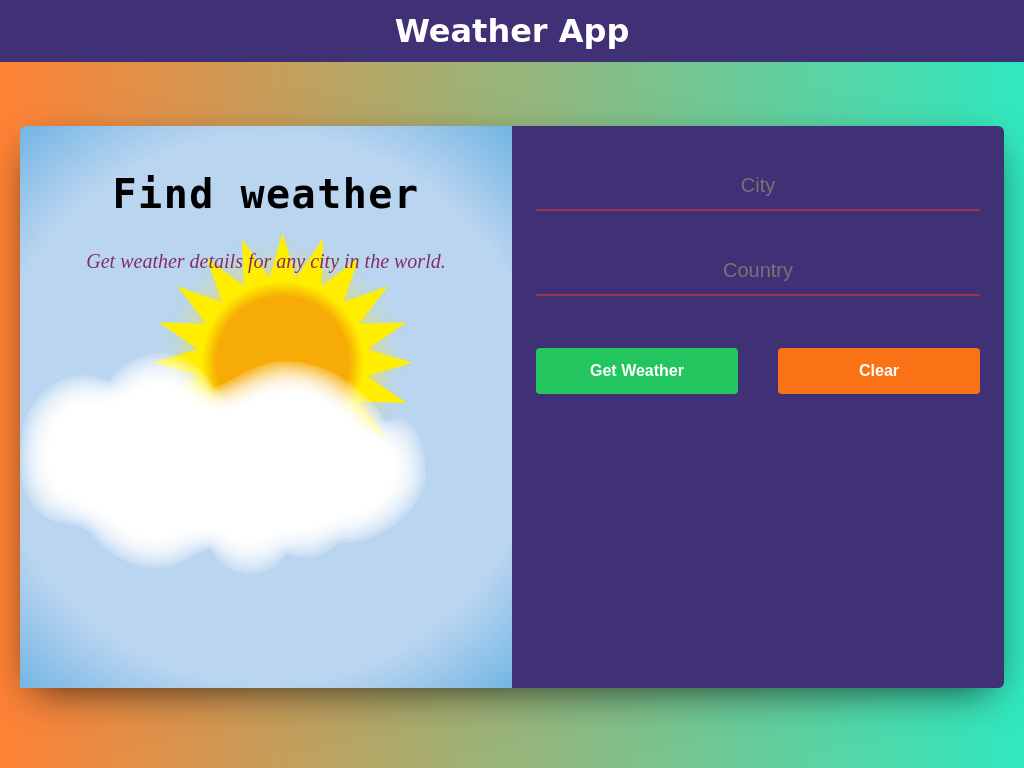
App integration tests › displays weather data after submitting the form
Type "London" into the field labelled "City". click: (758, 186)
box: [536,162,980,211]
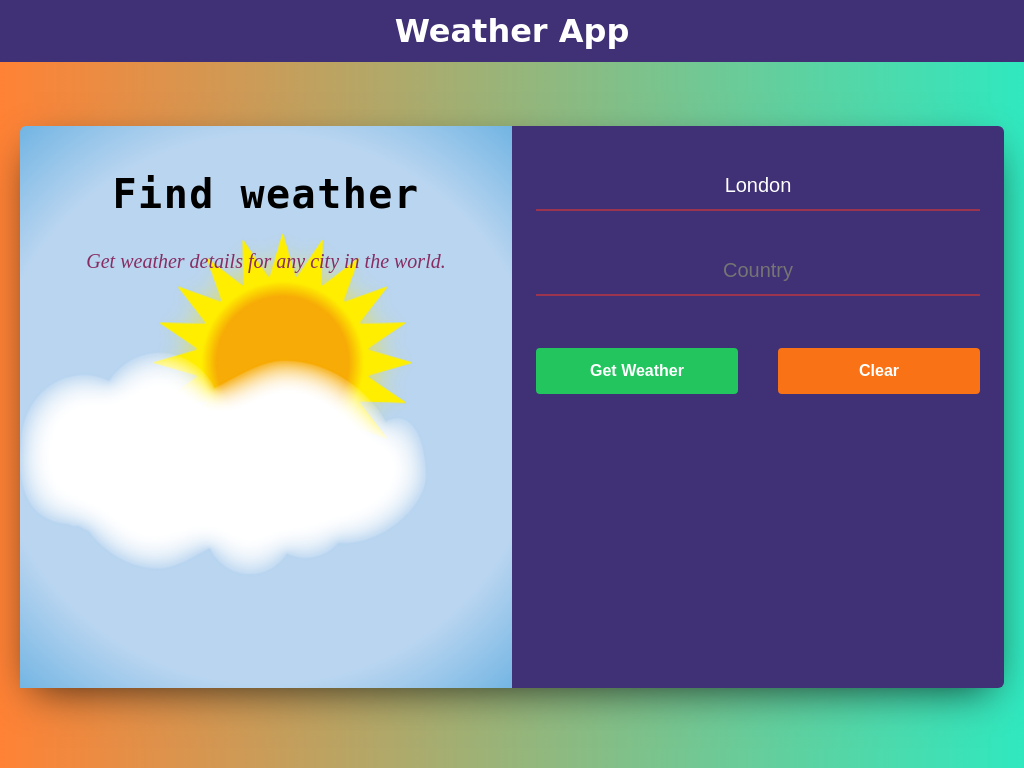
Type "UK" into the field labelled "Country". click: (758, 272)
box: [536,247,980,296]
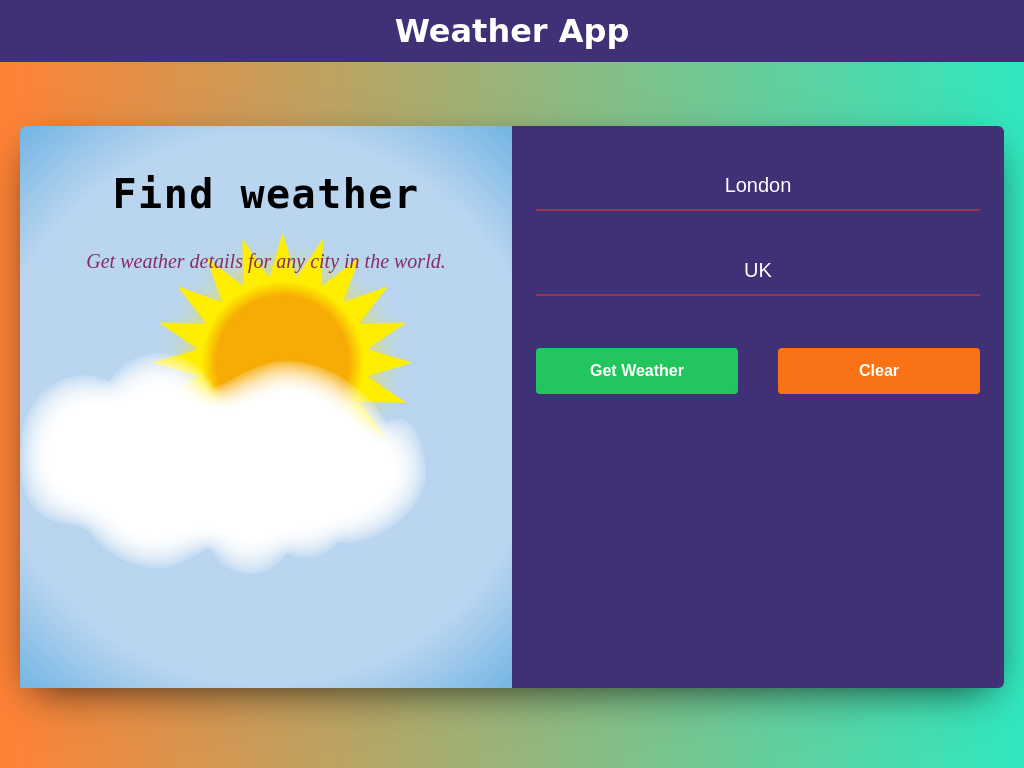
Click the button "Get Weather". click: (637, 371)
box: [536,348,738,394]
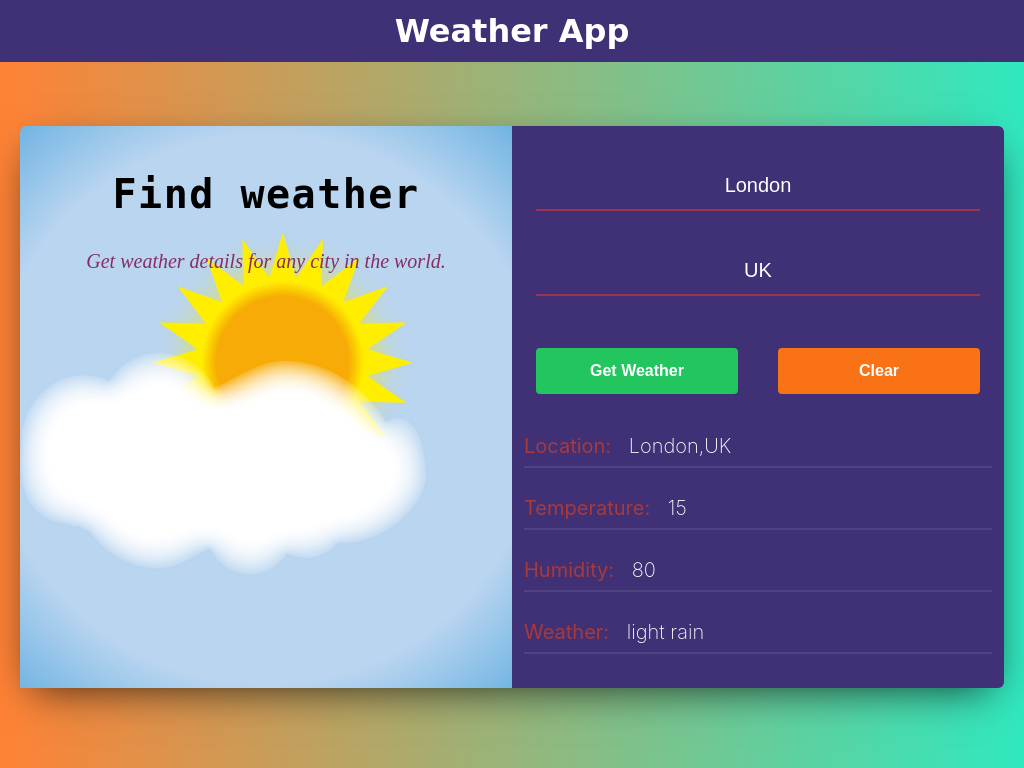
Check: the text "London,UK" is shown, box [629,434,731,458]
Check: the text "15" is shown, box [668,496,687,520]
Check: the text "80" is shown, box [632,558,656,582]
